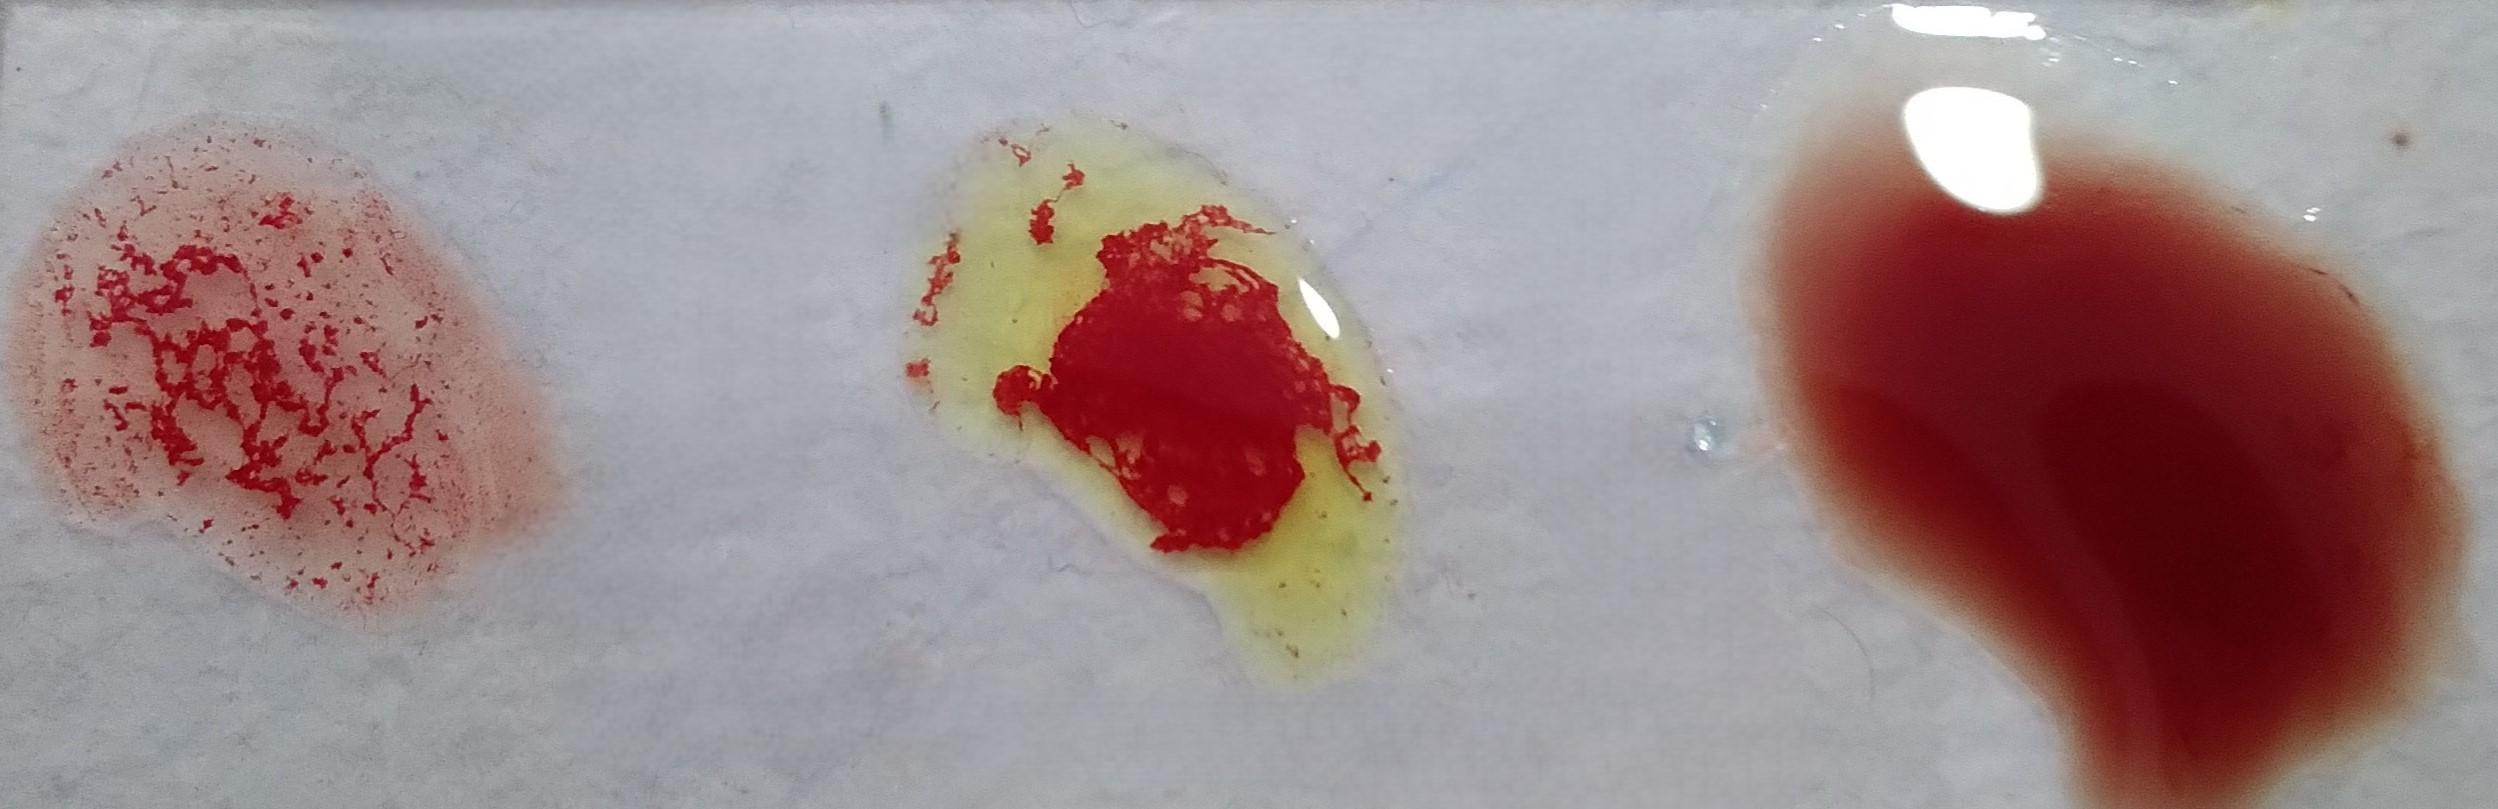B: (926, 118, 1418, 670)
D: (25, 121, 505, 615)
